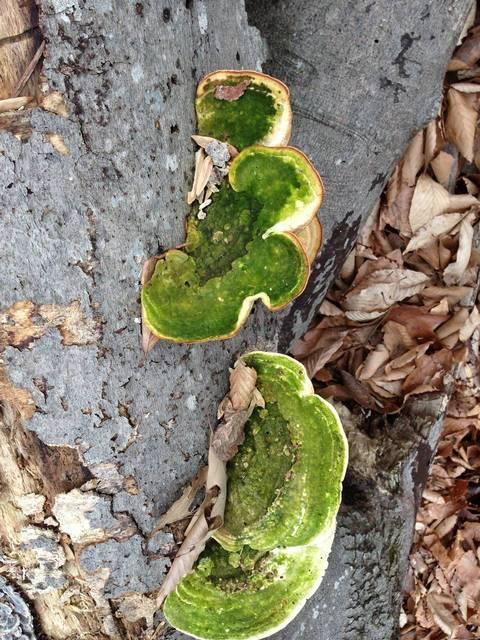poisonous_mushroom: (128, 58, 336, 369), (160, 349, 349, 638)
